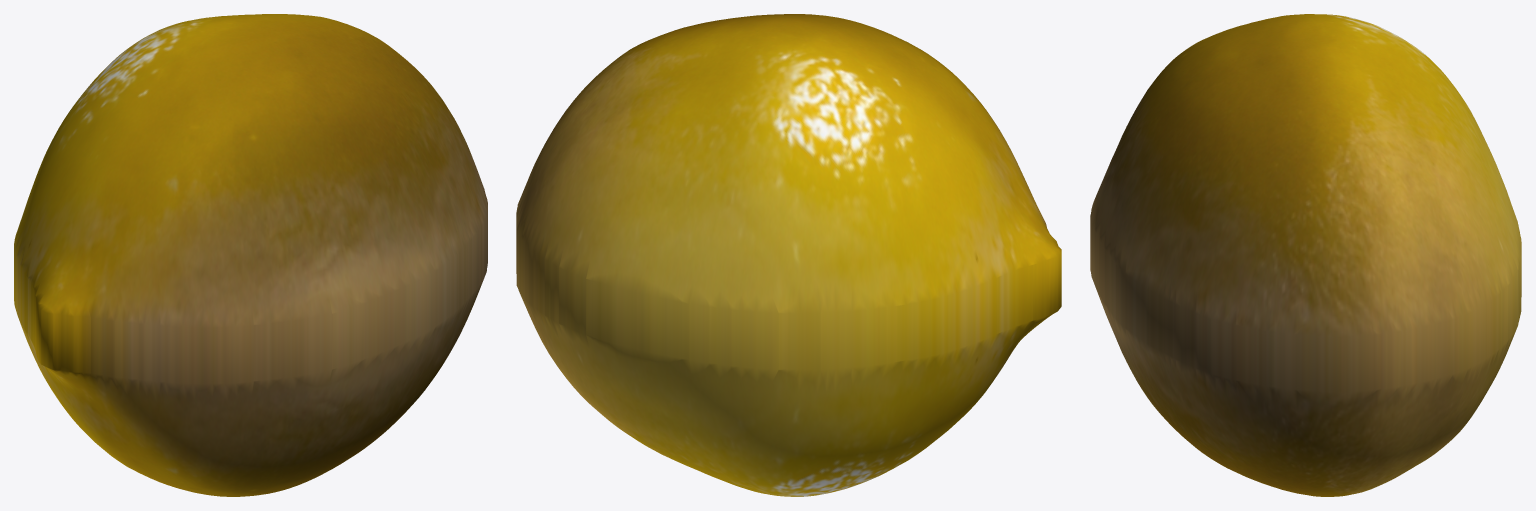
Rendered from lemon_9.obj.
3 views of the same model, side by side, from view 1: azimuth 30°, elevation 25°; view 2: azimuth 150°, elevation 25°; view 3: azimuth 270°, elevation 25° (orthographic). The views are drawn at different scales.
Parts seen in each view (by area): view 1: Grid; view 2: Grid; view 3: Grid.
Part boxes in pixels (<box>): Grid: <box>14,14,487,496</box>; Grid: <box>516,14,1061,496</box>; Grid: <box>1090,14,1521,496</box>.
Size of the model in its own units: 1.76 by 1.6 by 1.44.
Materials: 1 (1 with a texture image).
